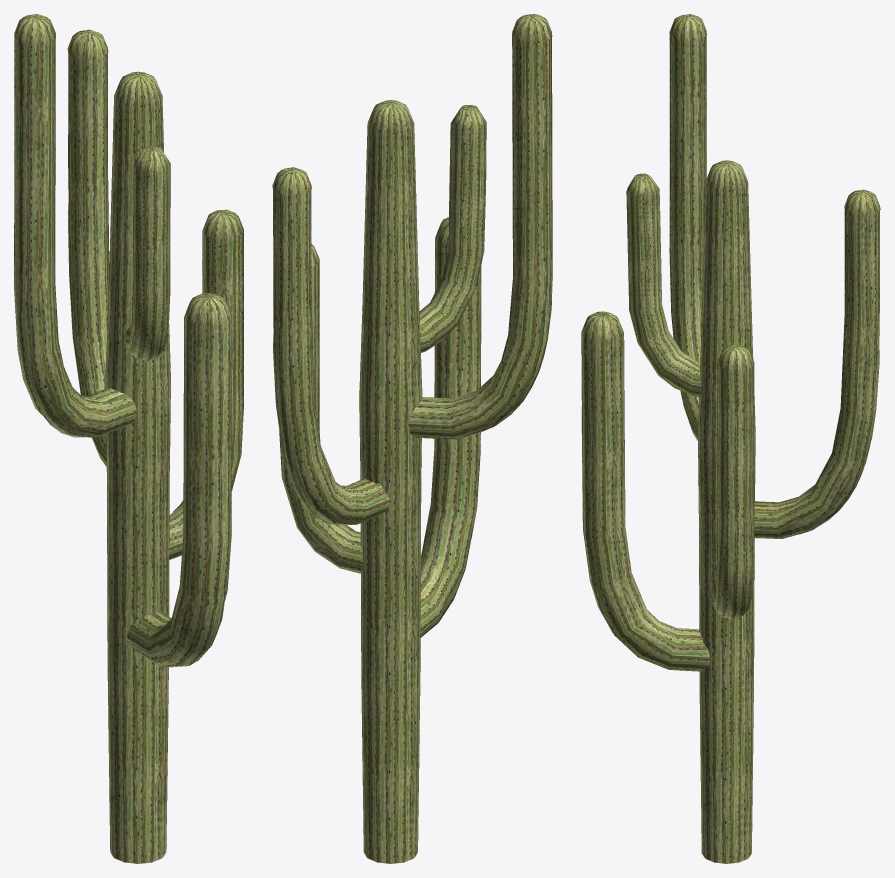
The model's file is Saguaro_Cactus_Model_0.obj.
The picture shows the model from 3 angles, left to right: view 1: azimuth 30°, elevation 25°; view 2: azimuth 150°, elevation 25°; view 3: azimuth 270°, elevation 25°; orthographic projection. The views are drawn at different scales.
Parts seen in each view (by area): view 1: Foliage; view 2: Foliage; view 3: Foliage.
Boxes of the visible parts, x1=… form: Foliage: x1=14, y1=14, x2=243, y2=863; Foliage: x1=272, y1=14, x2=552, y2=863; Foliage: x1=581, y1=14, x2=880, y2=863.
Size of the model in its own units: 1.79 by 6 by 2.08.
Materials: 1 (1 with a texture image).
